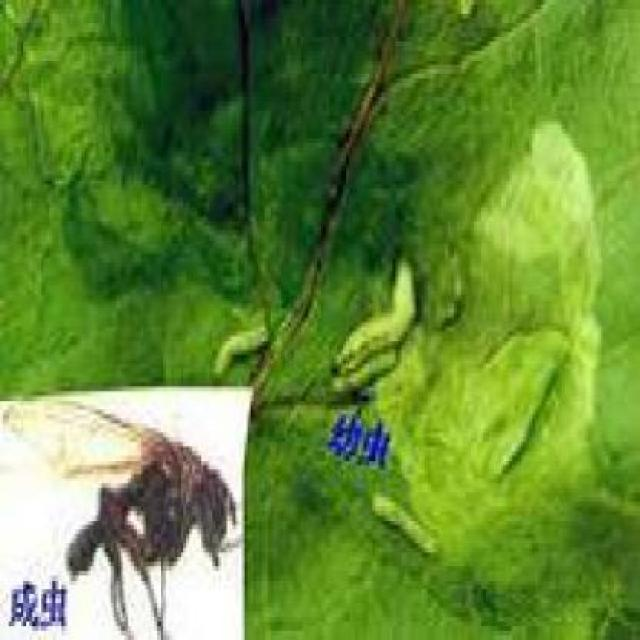whorl-maggot: (325, 251, 423, 400), (366, 481, 452, 577), (211, 305, 277, 380)
